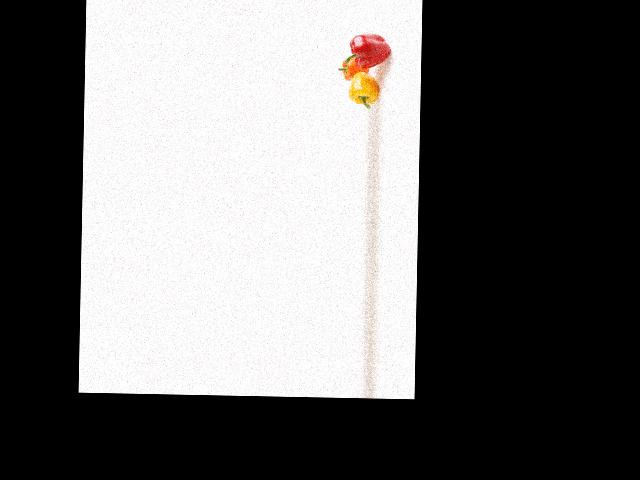bell_pepper: (340, 31, 395, 70)
